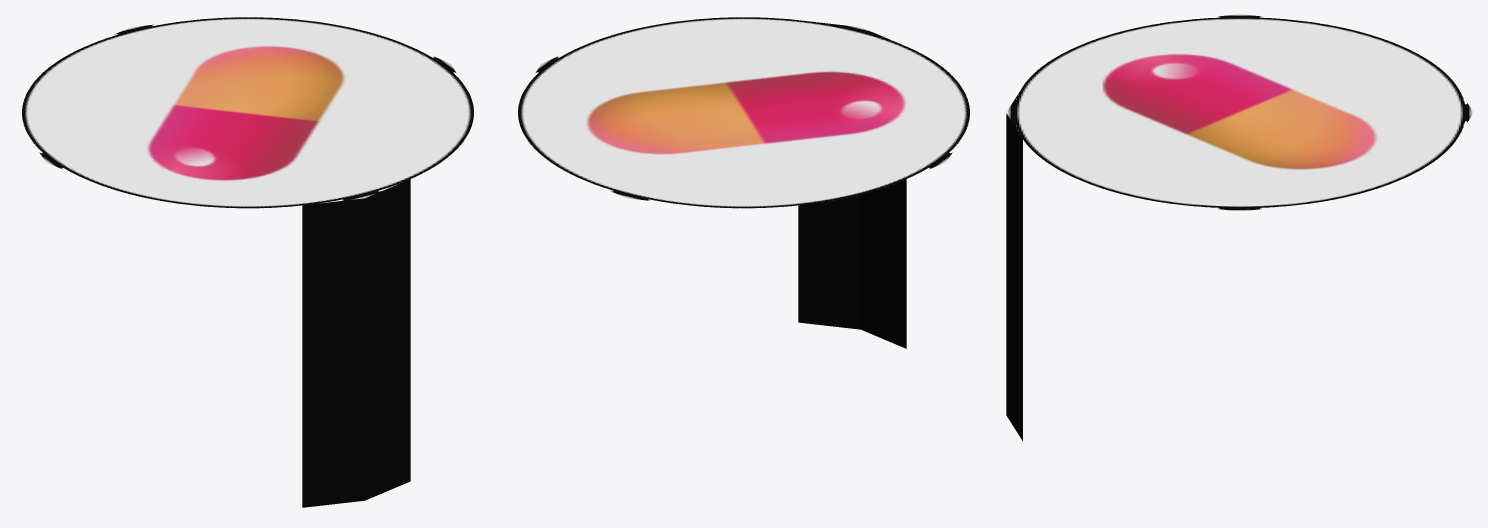
File: cylinder_pill.obj
3 renders of one model, left to right at view 1: azimuth 30°, elevation 25°; view 2: azimuth 150°, elevation 25°; view 3: azimuth 270°, elevation 25°, orthographic.
Parts seen in each view (by area): view 1: Cylinder; view 2: Cylinder; view 3: Cylinder.
Boxes of the visible parts, x1=… form: Cylinder: x1=22, y1=17, x2=473, y2=507; Cylinder: x1=518, y1=17, x2=969, y2=348; Cylinder: x1=1006, y1=14, x2=1473, y2=440.
Size of the model in its own units: 0.0701 by 0.05 by 0.0701.
Materials: 1 (1 with a texture image).
